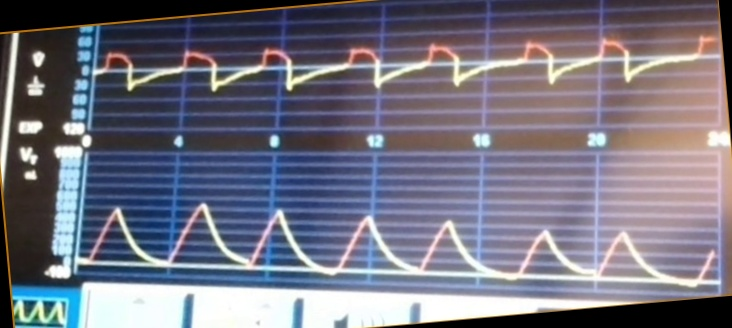Normal Flow: (97, 27, 716, 110)
Normal Volume: (84, 187, 714, 288)
